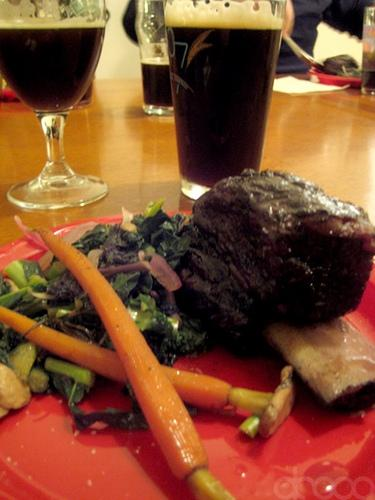carrot: (39, 228, 237, 499), (0, 305, 274, 416)
